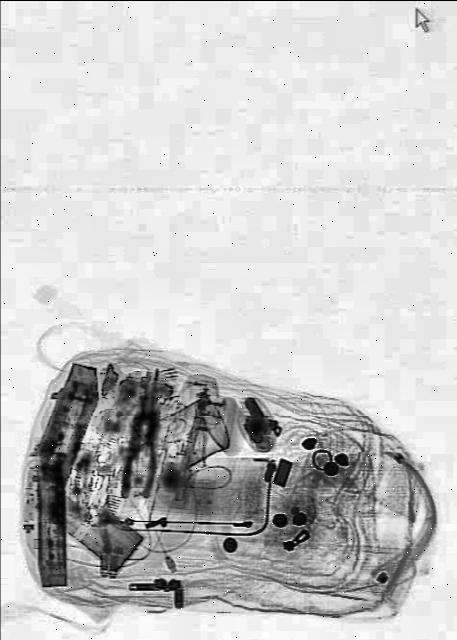Pliers: (120, 363, 166, 499)
